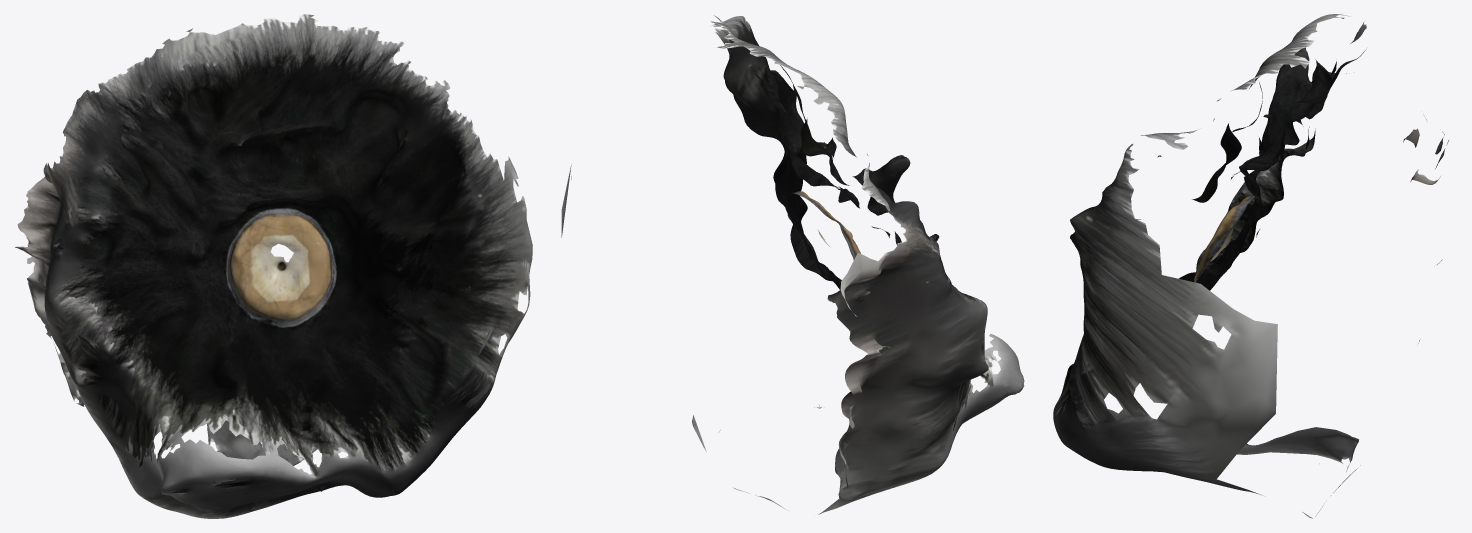
The picture shows the model from 3 angles, left to right: view 1: azimuth 30°, elevation 25°; view 2: azimuth 150°, elevation 25°; view 3: azimuth 270°, elevation 25°; orthographic projection. The views are drawn at different scales.
Size of the model in its own units: 1.07 by 1.02 by 0.8035.
1 material, 1 textured.
